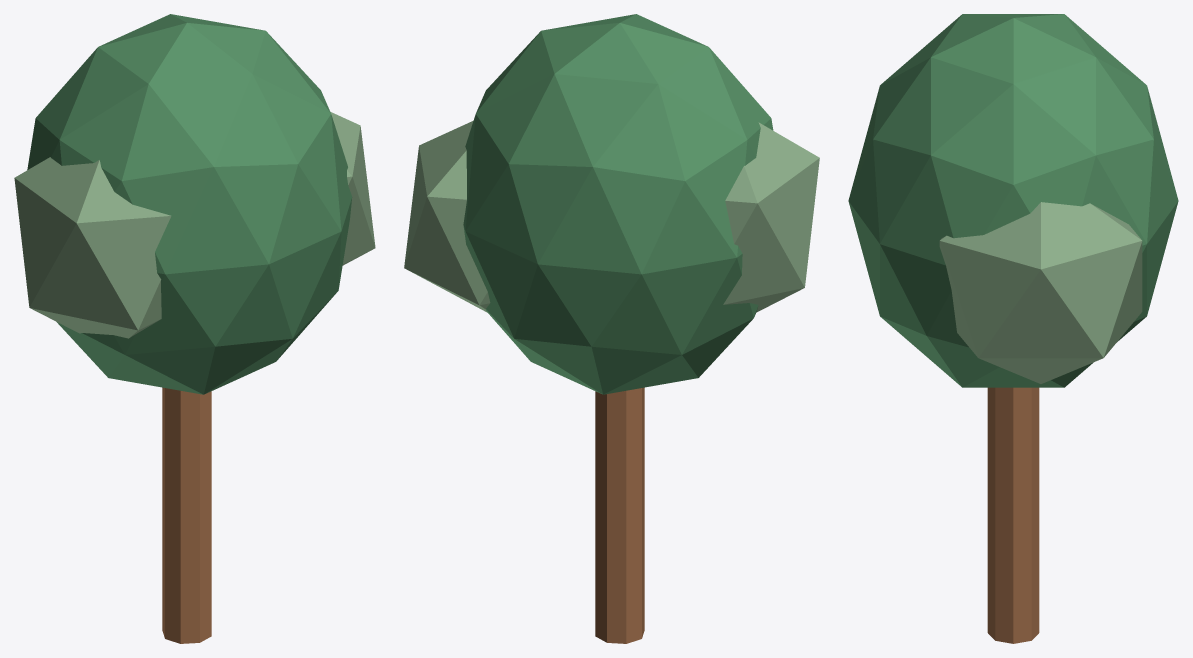
File: Tree_Round.fbx
3 views of the same model, side by side, from view 1: azimuth 30°, elevation 25°; view 2: azimuth 150°, elevation 25°; view 3: azimuth 270°, elevation 25° (orthographic).
Parts seen in each view (by area): view 1: CrownMain, CrownSide.001, Trunk, CrownSide; view 2: CrownMain, Trunk, CrownSide.001, CrownSide; view 3: CrownMain, CrownSide, Trunk.
Boxes of the visible parts, box(x1,y1,x2,y2) form: CrownMain: box(27, 14, 352, 394); CrownSide.001: box(14, 157, 171, 338); Trunk: box(162, 387, 211, 643); CrownSide: box(330, 112, 375, 265); CrownMain: box(463, 14, 773, 394); Trunk: box(595, 387, 644, 643); CrownSide.001: box(723, 122, 819, 312); CrownSide: box(404, 120, 490, 312); CrownMain: box(848, 14, 1178, 387); CrownSide: box(939, 202, 1142, 383); Trunk: box(987, 387, 1039, 643).
Size of the model in its own units: 2.27 by 3.7 by 1.8.
